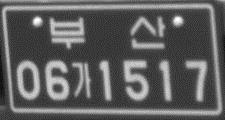0: (16, 58, 42, 101)
1: (96, 60, 116, 104), (156, 57, 174, 102)
5: (121, 57, 150, 102)
6: (43, 58, 72, 100)
7: (183, 58, 209, 104)
가: (70, 60, 94, 101)
부산_D: (47, 14, 167, 50)
